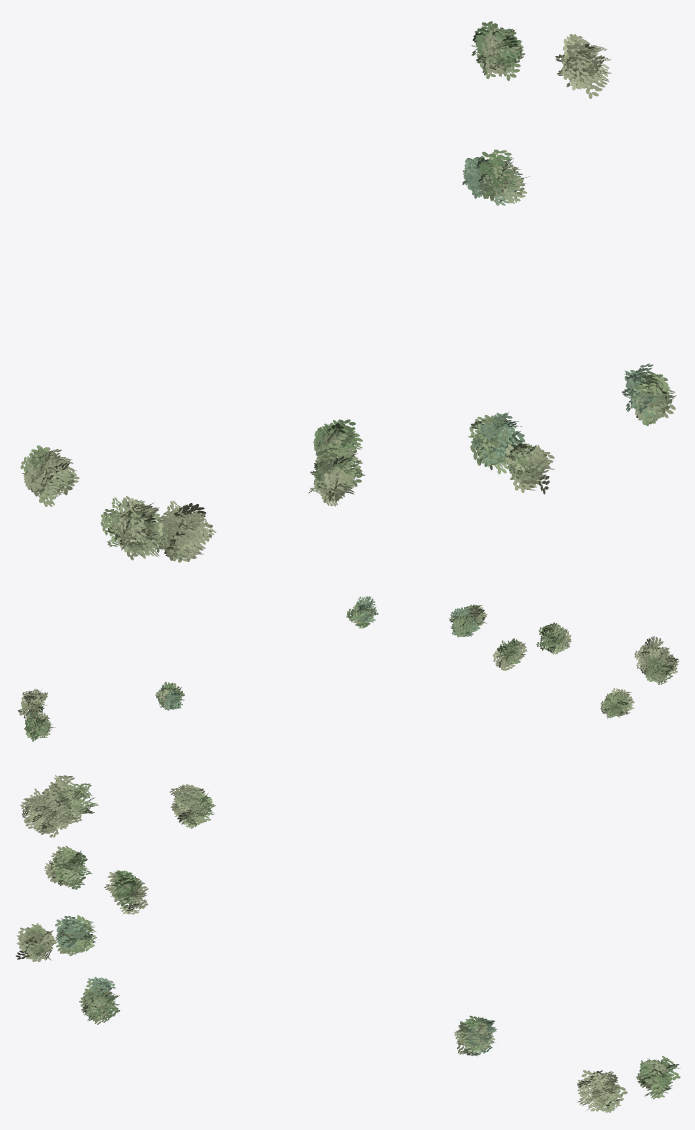
Rendered from campus-tree-4_-2-far.glb.
The picture shows the model from 3 angles, top to bottom: view 1: azimuth 30°, elevation 25°; view 2: azimuth 150°, elevation 25°; view 3: azimuth 270°, elevation 25°; orthographic projection. The views are drawn at different scales.
Visible parts, largest first — view 1: Campus leaf canopy; view 2: Campus leaf canopy; view 3: Campus leaf canopy.
Part boxes in pixels (x1=…): Campus leaf canopy: x1=20, y1=21, x2=676, y2=562; Campus leaf canopy: x1=17, y1=596, x2=678, y2=741; Campus leaf canopy: x1=16, y1=775, x2=680, y2=1112.
Bounding box in the file's own units: 82.83 × 7.16 × 75.08.
Materials: 1 (1 with a texture image).
